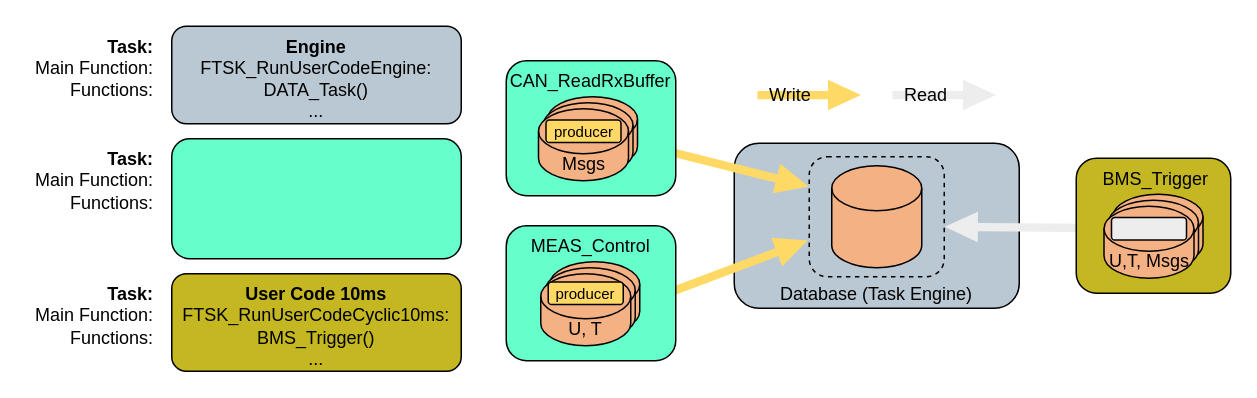
The diagram is 1257 pixels wide and 398 high, and some of its shapes have lost their labels. Each missing label, with the centre of its shape:
"ALL" belongs at point (876, 216).
"consumer" belongs at point (1148, 228).
"User Code 1ms FTSK_RunUserCodeCyclic1ms: MEAS_Control() CAN_ReadRxBuffer ..." belongs at point (315, 198).
